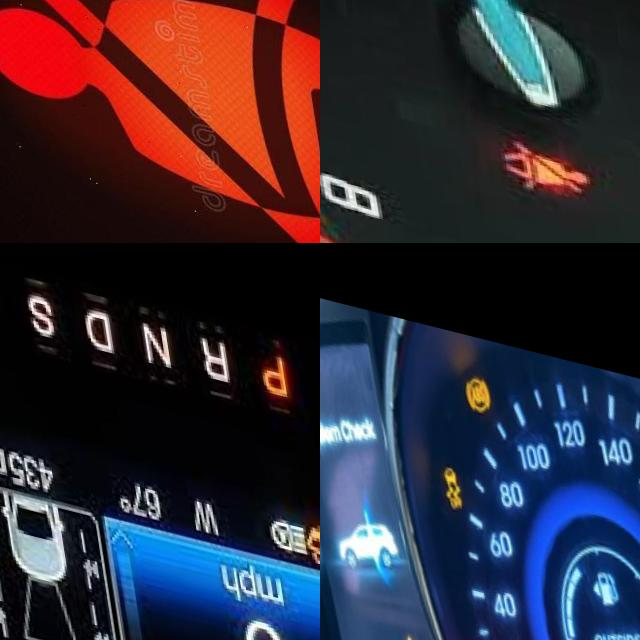Central Warning lamp: (388, 614, 412, 640)
Seat Belt: (0, 0, 320, 243), (487, 121, 578, 181)
Washer Fluid: (295, 498, 320, 546)
